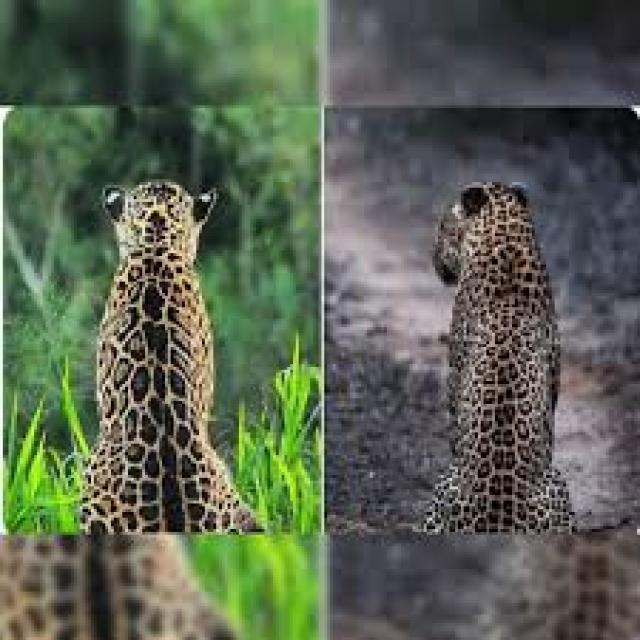Jaguar: (427, 176, 566, 564), (102, 176, 236, 546)
